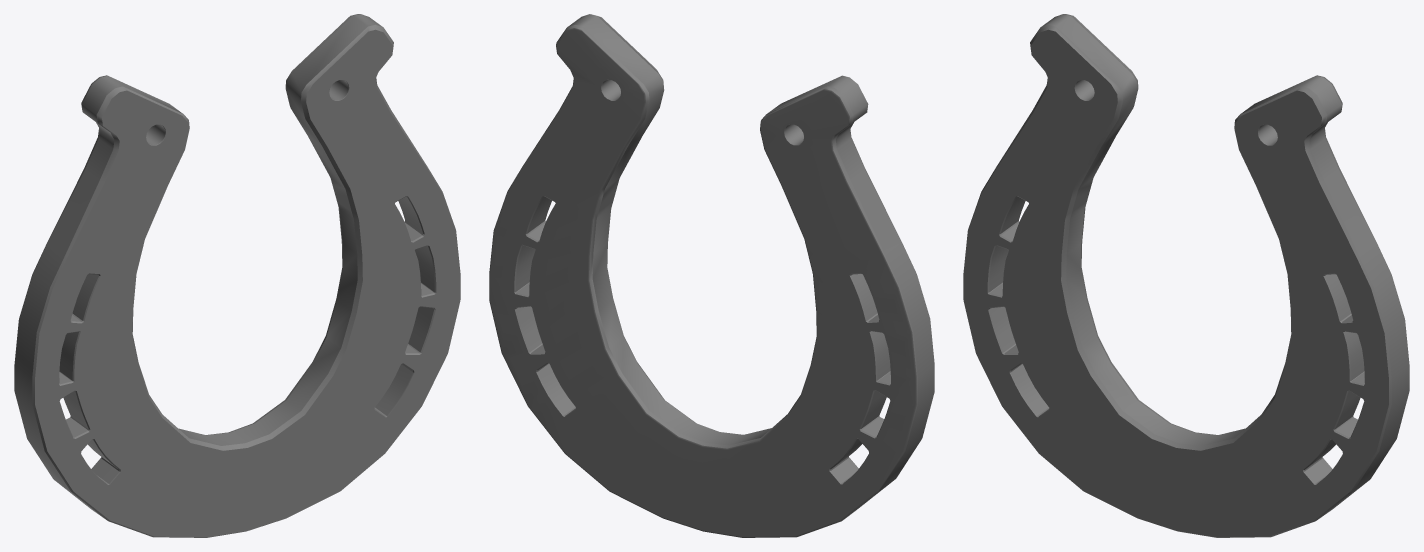
Rendered from M_Horse shoe.fbx.
3 renders of one model, left to right at view 1: azimuth 30°, elevation 25°; view 2: azimuth 150°, elevation 25°; view 3: azimuth 330°, elevation 25°, orthographic.
Visible parts, largest first — view 1: Horse shoe; view 2: Horse shoe; view 3: Horse shoe.
Part boxes in pixels (bbox=[...]): Horse shoe: bbox=[14, 14, 460, 537]; Horse shoe: bbox=[489, 14, 934, 537]; Horse shoe: bbox=[963, 14, 1409, 537].
Bounding box in the file's own units: 28.04 × 29.65 × 2.21.
